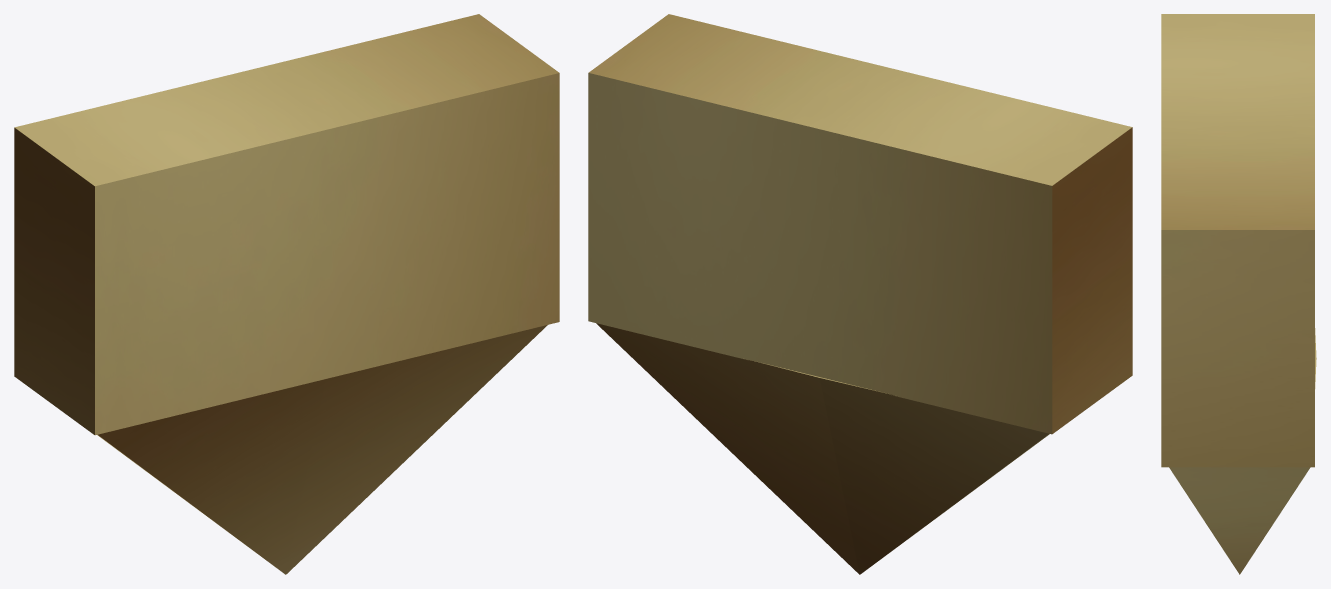
File: Block.gltf
3 renders of one model, left to right at view 1: azimuth 30°, elevation 25°; view 2: azimuth 150°, elevation 25°; view 3: azimuth 270°, elevation 25°, orthographic. The views are drawn at different scales.
Parts seen in each view (by area): view 1: Cube; view 2: Cube; view 3: Cube.
Boxes of the visible parts, <box> form: Cube: <box>14,14,559,574</box>; Cube: <box>588,14,1132,574</box>; Cube: <box>1161,14,1316,574</box>.
Bounding box in the file's own units: 1.2 × 1.17 × 0.3639.
